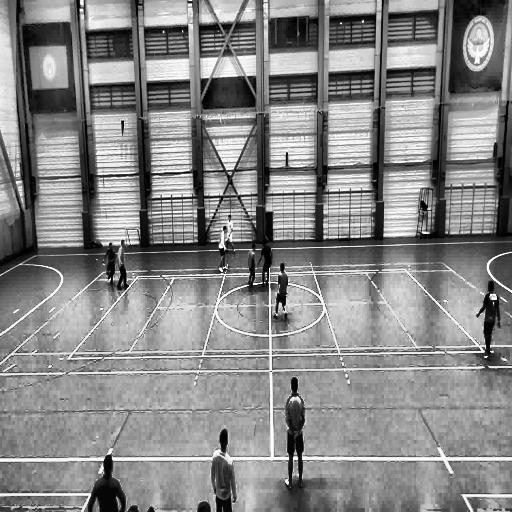player: (282, 377, 305, 490), (474, 278, 500, 360), (212, 428, 237, 512), (274, 262, 288, 321), (259, 235, 273, 290), (224, 213, 238, 254), (103, 242, 116, 286), (117, 238, 128, 289), (218, 226, 227, 273), (246, 242, 255, 286)
